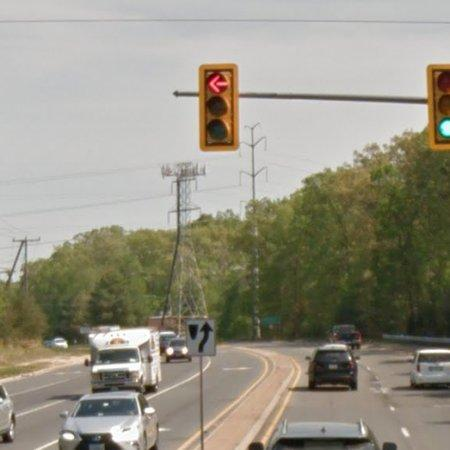traffic lights: (202, 59, 236, 152), (426, 62, 449, 149)
